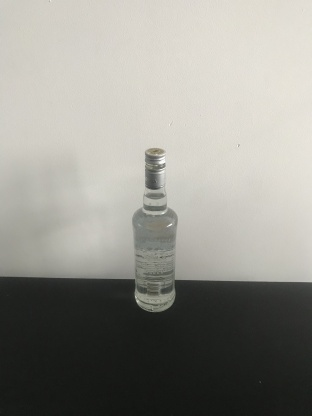nakretka: (143, 146, 167, 190)
